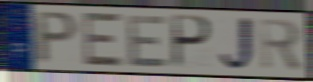E: (82, 11, 124, 69), (126, 14, 170, 68)
J: (217, 14, 259, 74)
P: (35, 10, 80, 66), (171, 14, 214, 71)
R: (257, 16, 304, 74)
